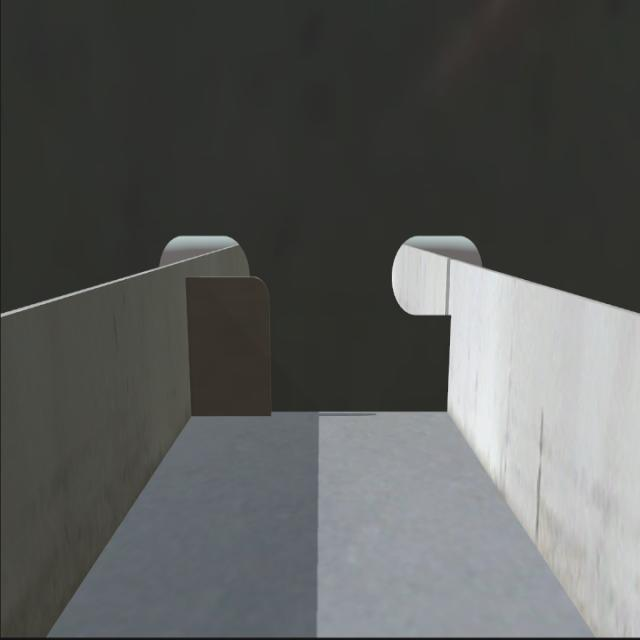fillet_yong_jeop_jang: (192, 406, 457, 422)
longi_yong_jeop_jang: (182, 273, 198, 421), (443, 308, 458, 419)
plate_CP05: (186, 278, 272, 418)
